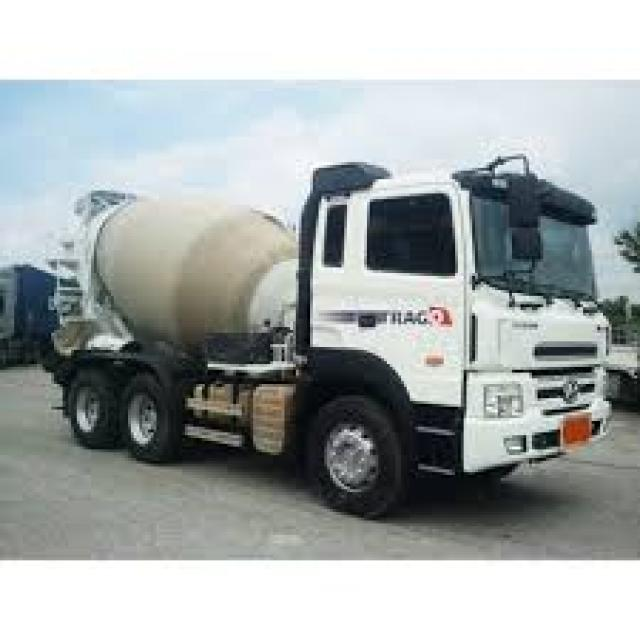Mixer Truck: (43, 146, 615, 524)
